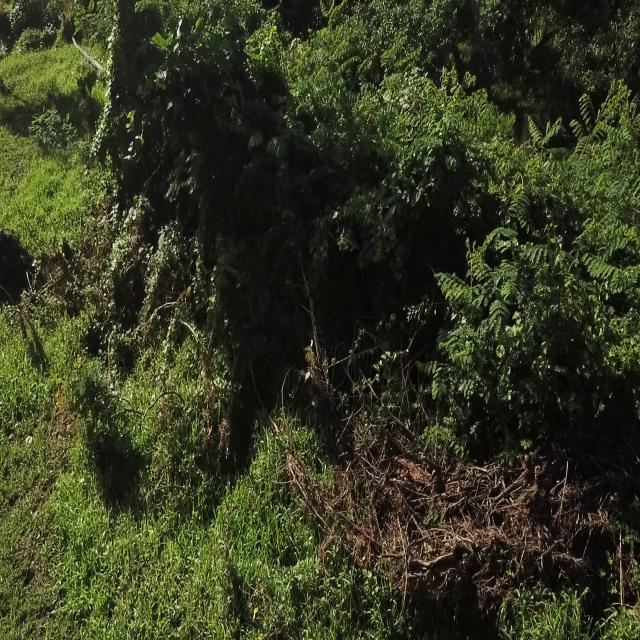Mysore-Thorn-Weed: (432, 224, 525, 416), (585, 80, 640, 350), (311, 0, 362, 149), (425, 59, 486, 160), (530, 224, 580, 338), (508, 120, 566, 207), (384, 38, 411, 144)
